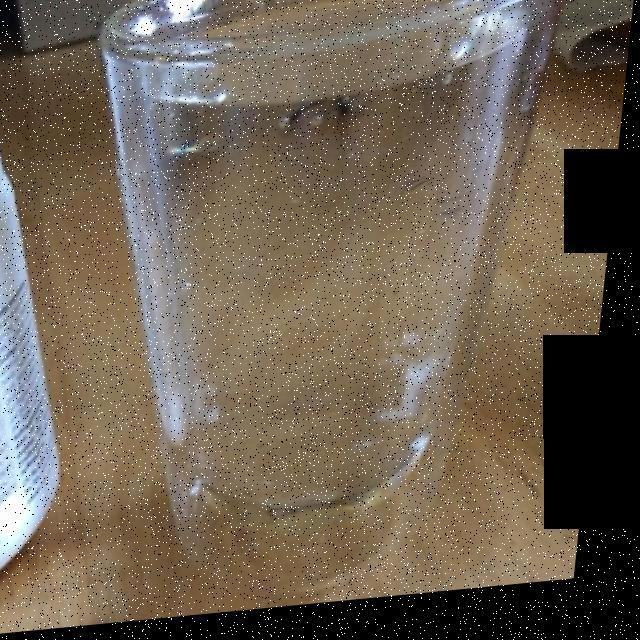water: (126, 0, 544, 521)
